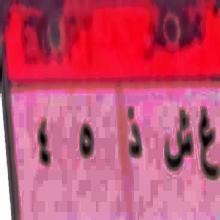4: (35, 119, 53, 173)
5: (77, 113, 97, 170)
ghayn: (197, 100, 220, 190)
sheen: (163, 107, 193, 179)
zaal: (123, 100, 142, 164)
